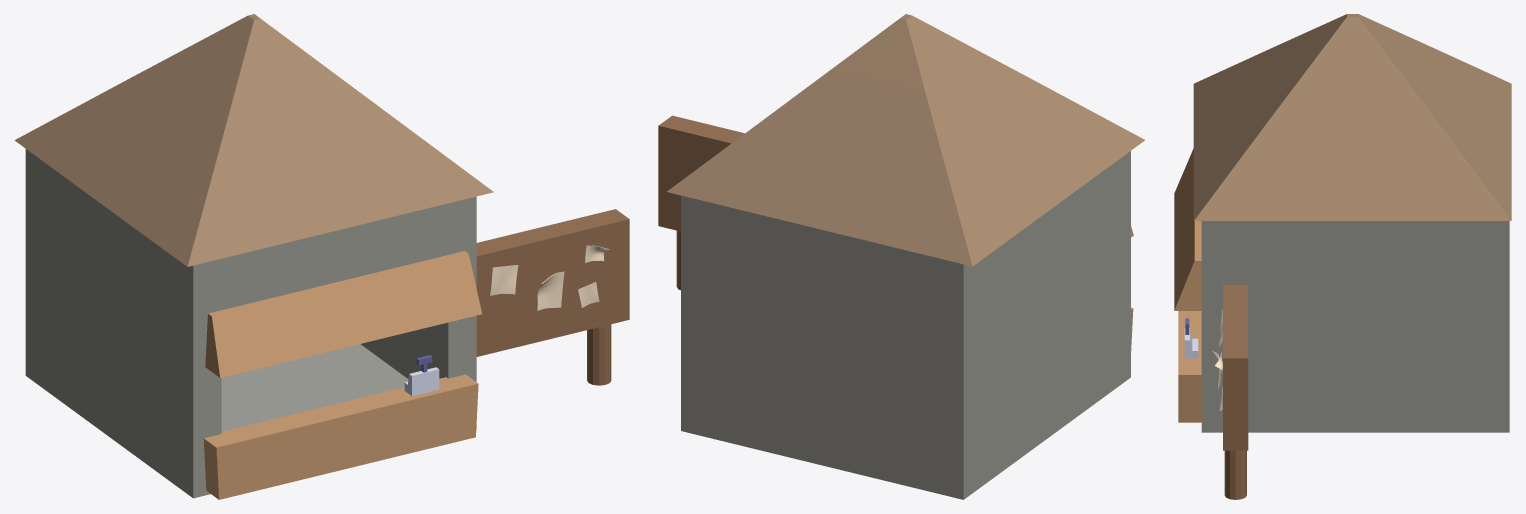
The model's file is fishstand_gamejam.fbx.
The picture shows the model from 3 angles, left to right: view 1: azimuth 30°, elevation 25°; view 2: azimuth 150°, elevation 25°; view 3: azimuth 270°, elevation 25°; orthographic projection. The views are drawn at different scales.
Parts seen in each view (by area): view 1: fishstand_walls, roof, countertop_cover, countertop, notice_board, pCylinder1, notice2, cash_register, notice; view 2: fishstand_walls, roof, notice_board; view 3: fishstand_walls, roof, notice_board, countertop_cover, countertop, pCylinder1.
Part boxes in pixels (bbox=[...]): fishstand_walls: bbox=[25, 149, 476, 498]; roof: bbox=[14, 14, 493, 266]; countertop_cover: bbox=[205, 251, 482, 377]; countertop: bbox=[203, 374, 478, 499]; notice_board: bbox=[476, 209, 629, 356]; pCylinder1: bbox=[587, 324, 611, 385]; notice2: bbox=[537, 271, 564, 310]; cash_register: bbox=[404, 367, 439, 396]; notice: bbox=[490, 265, 518, 295]; fishstand_walls: bbox=[681, 151, 1130, 499]; roof: bbox=[667, 14, 1144, 266]; notice_board: bbox=[658, 115, 744, 231]; fishstand_walls: bbox=[1201, 221, 1509, 432]; roof: bbox=[1193, 14, 1511, 220]; notice_board: bbox=[1223, 284, 1248, 450]; countertop_cover: bbox=[1174, 148, 1201, 310]; countertop: bbox=[1178, 311, 1201, 422]; pCylinder1: bbox=[1224, 450, 1246, 499].
Bounding box in the file's own units: 17.76 × 14.31 × 12.33.
